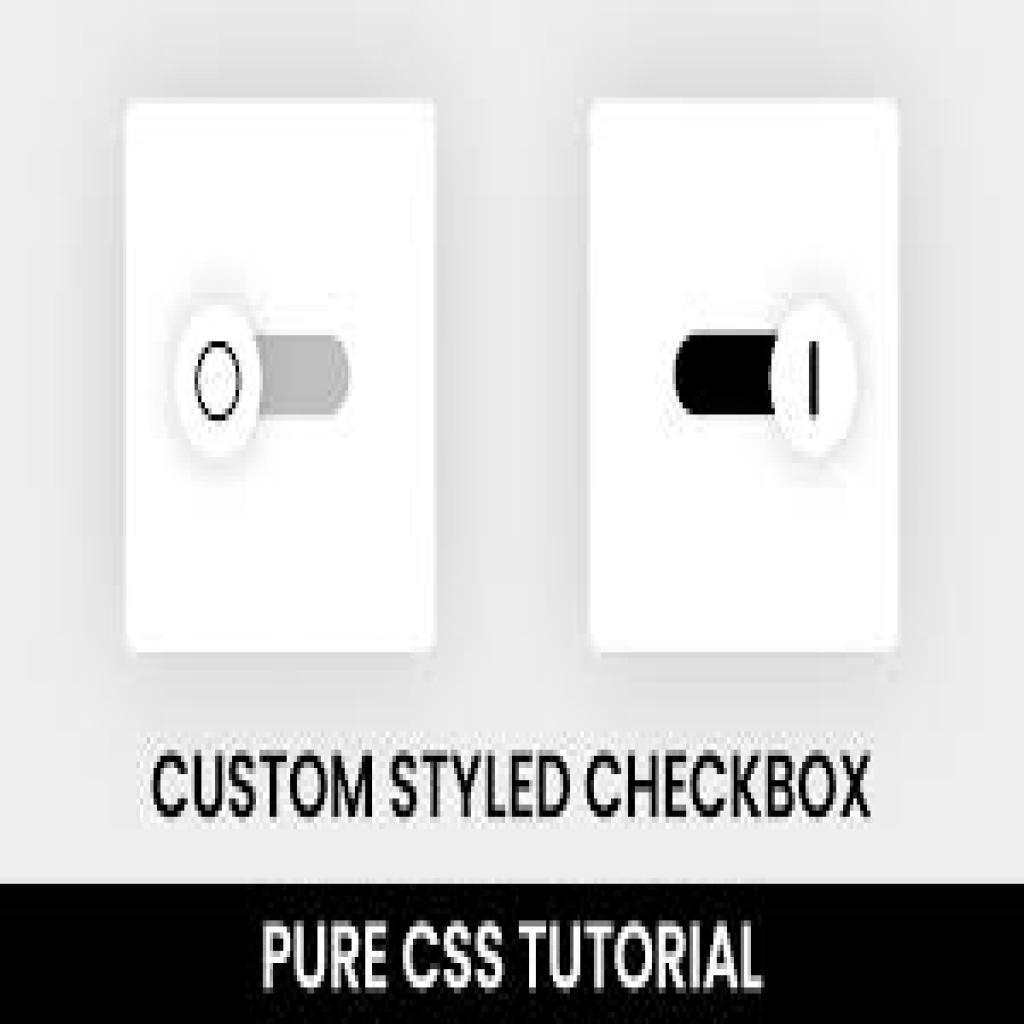switch: (666, 305, 863, 460), (173, 307, 355, 456)
